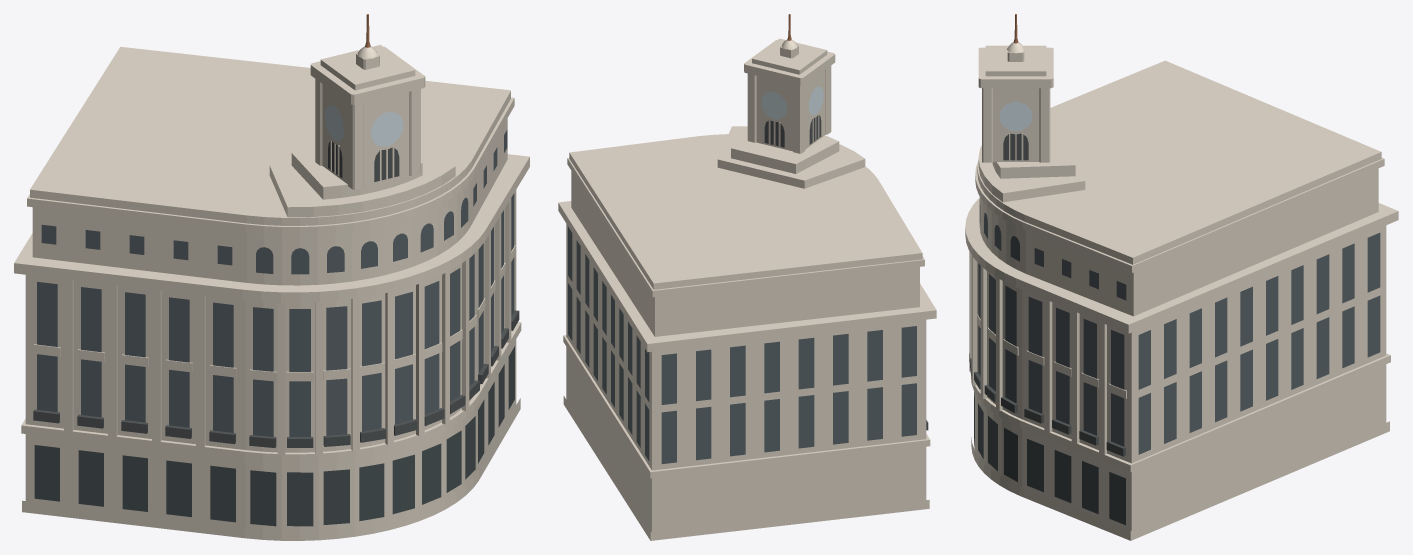
The model's file is tokyo-wako.detail.glb.
The picture shows the model from 3 angles, left to right: view 1: azimuth 30°, elevation 25°; view 2: azimuth 150°, elevation 25°; view 3: azimuth 270°, elevation 25°; orthographic projection. The views are drawn at different scales.
Visible parts, largest first — view 1: Wako; view 2: Wako; view 3: Wako.
Boxes of the visible parts, bbox=[...] form: Wako: bbox=[14, 14, 529, 540]; Wako: bbox=[558, 14, 936, 540]; Wako: bbox=[965, 14, 1398, 540].
Bounding box in the file's own units: 45.42 × 43.4 × 39.32.
